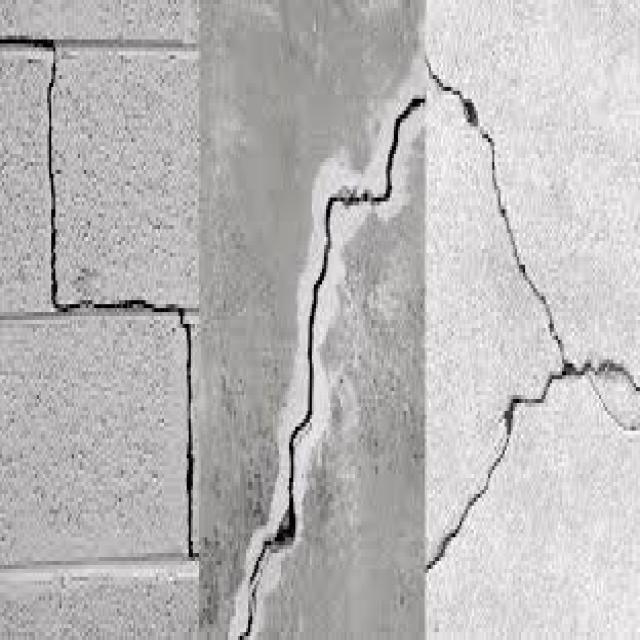Crack: (0, 24, 199, 561), (234, 87, 422, 636), (425, 55, 566, 368), (420, 359, 574, 569), (564, 344, 638, 438)
